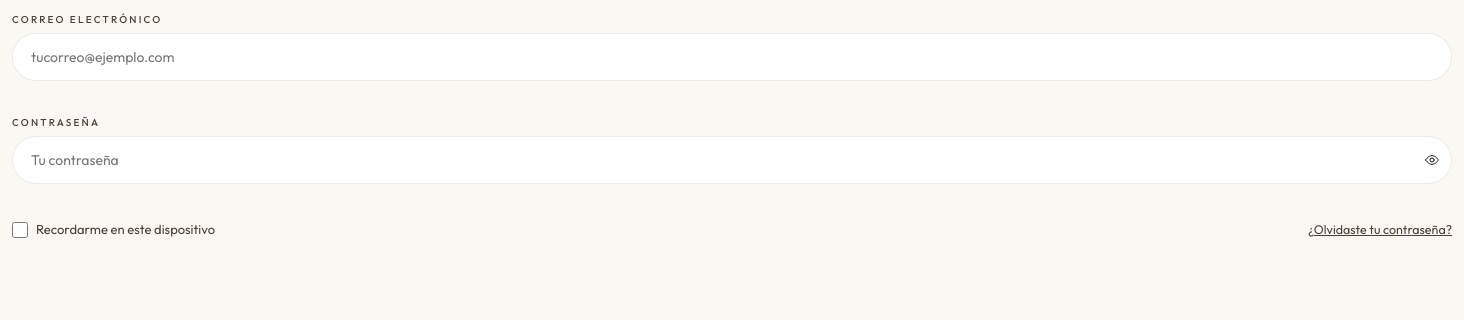
Test: LoginForm › shows the backend message on INVALID_CREDENTIALS
Type "sharon@ejemplo.com" into the field with placeholder "tucorreo@ejemplo.com" at (732, 57), box left=12, top=33, right=1452, bottom=81
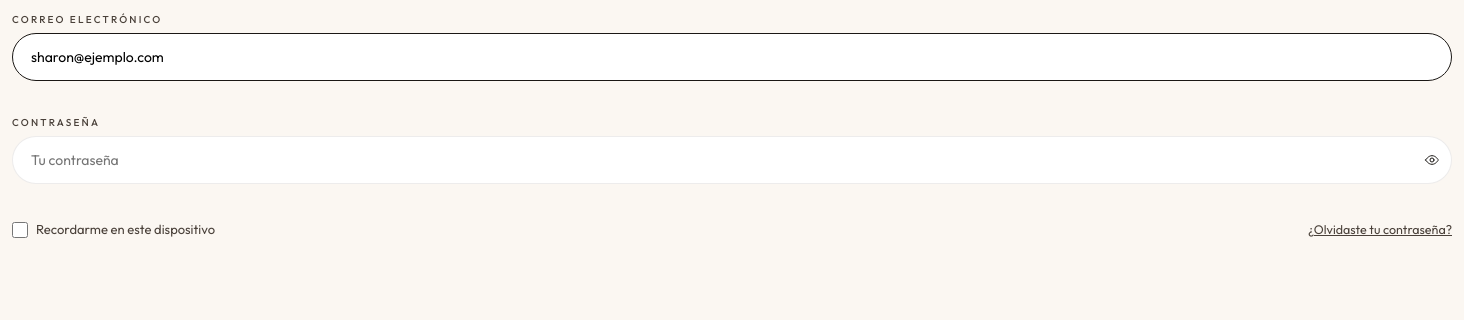
Type "clave1234" into the password field with placeholder "Tu contraseña" at (732, 160), box left=12, top=136, right=1452, bottom=184
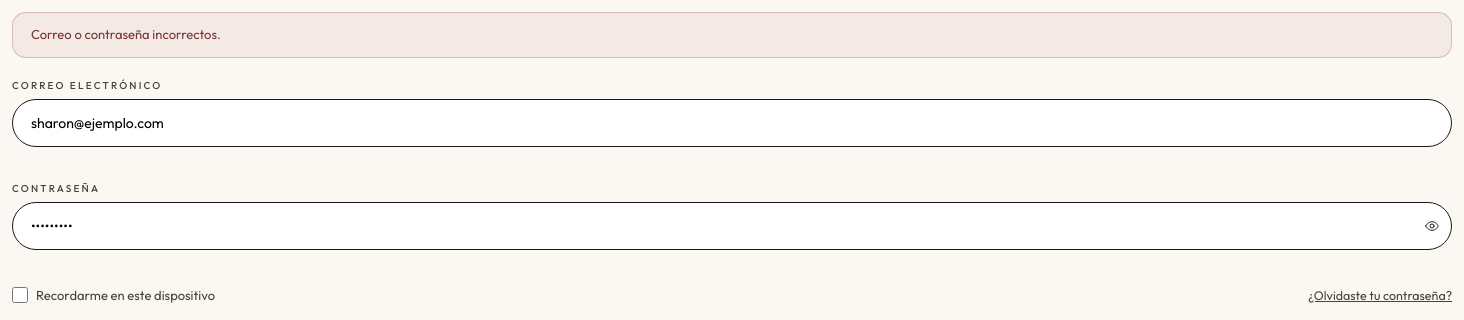
Now the text "Correo o contraseña incorrectos." is shown, box left=12, top=12, right=1452, bottom=58
